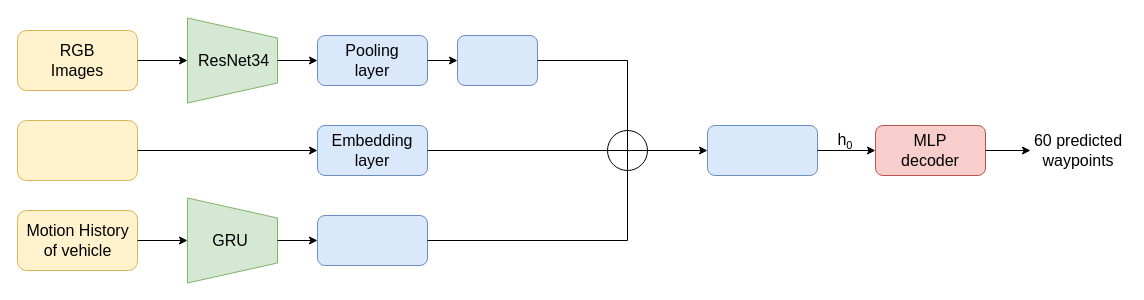
Some shapes in this 1144 by 300 pixel diagram are drawn without their labels. The shapes that lost their labels are listed below. From the top down, each one's centre as x and y in pixels, then its label:
At [497,60]: "MLP".
At [77,150]: "Driving Command".
At [762,150]: "MLP fusion".
At [372,240]: "Temporal Attention".
